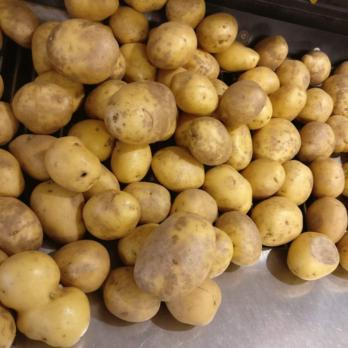Solid potato: (1, 0, 222, 343), (224, 38, 348, 279)
